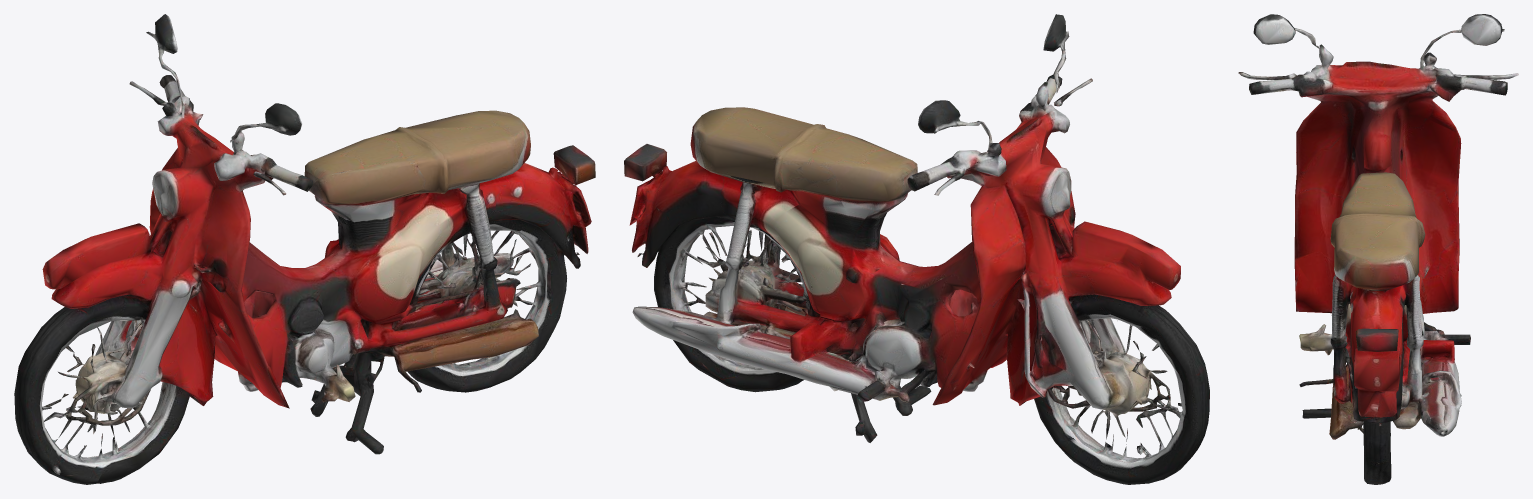
Rendered from moto.glb.
The picture shows the model from 3 angles, left to right: view 1: azimuth 30°, elevation 25°; view 2: azimuth 150°, elevation 25°; view 3: azimuth 270°, elevation 25°; orthographic projection. The views are drawn at different scales.
Size of the model in its own units: 2 by 1.33 by 0.9475.
Materials: 1 (1 with a texture image).
